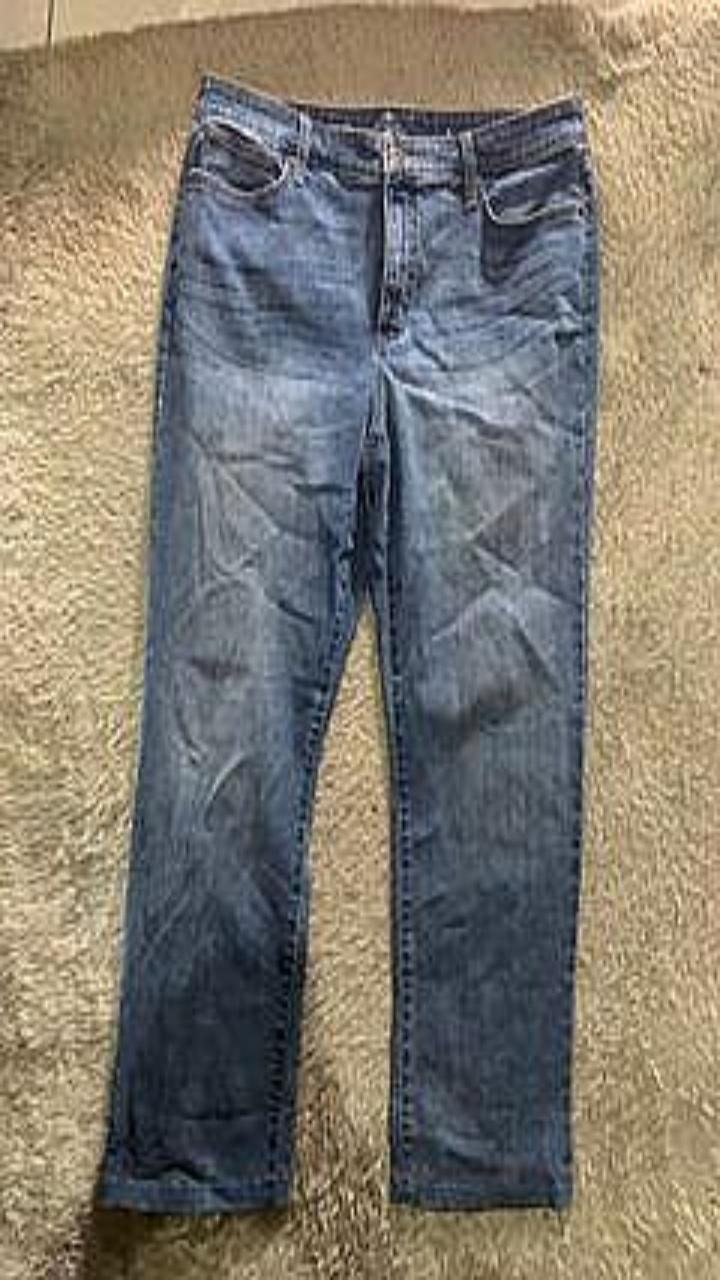Jeans: (98, 75, 598, 1211)
